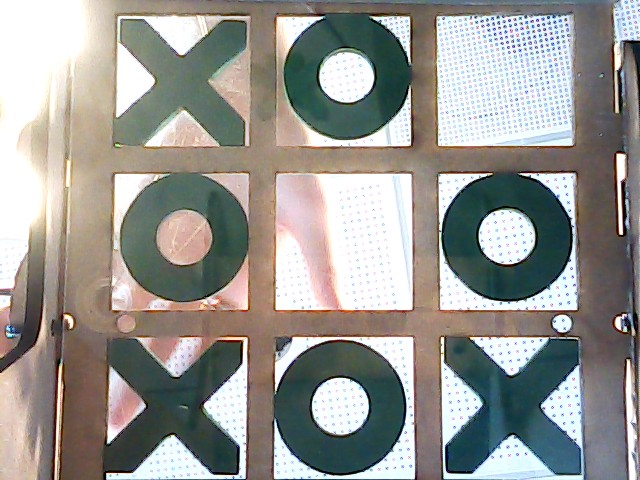O: (275, 335, 409, 475), (441, 170, 577, 295), (283, 16, 413, 143), (115, 178, 249, 301)
X: (441, 336, 586, 475), (105, 339, 245, 479), (112, 19, 250, 149)
